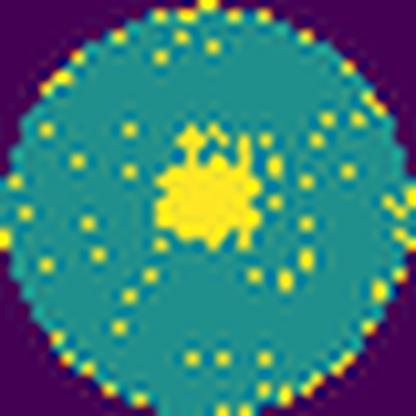Center: (154, 122, 266, 250)
